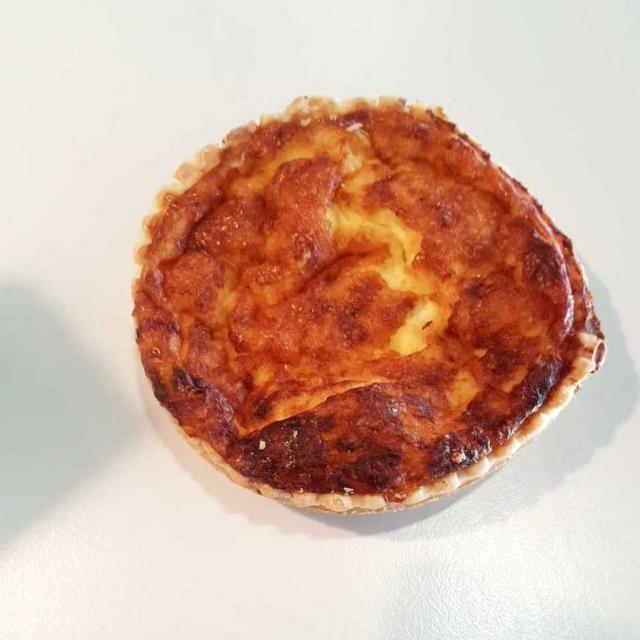quiche: (137, 114, 594, 510), (146, 110, 590, 509)
